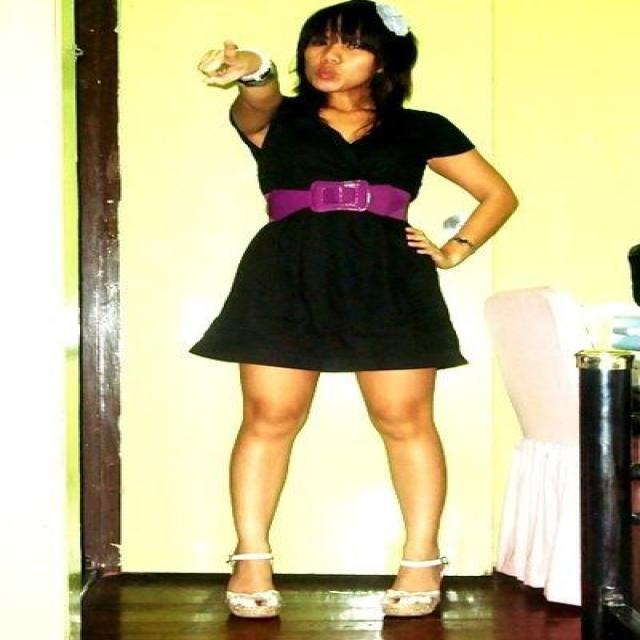dress: (189, 96, 478, 374)
shoe: (227, 589, 437, 615)
